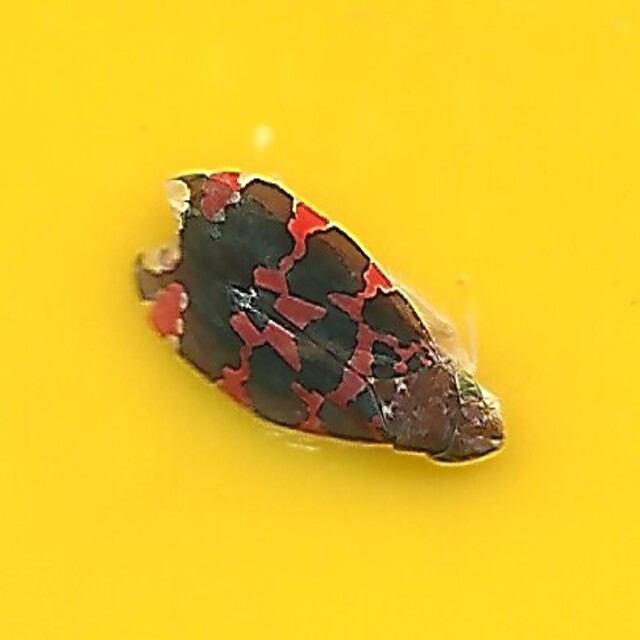Hemiptera: (132, 168, 508, 472)
